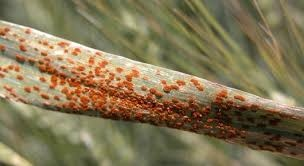Leaf Rust: (26, 52, 215, 131)
